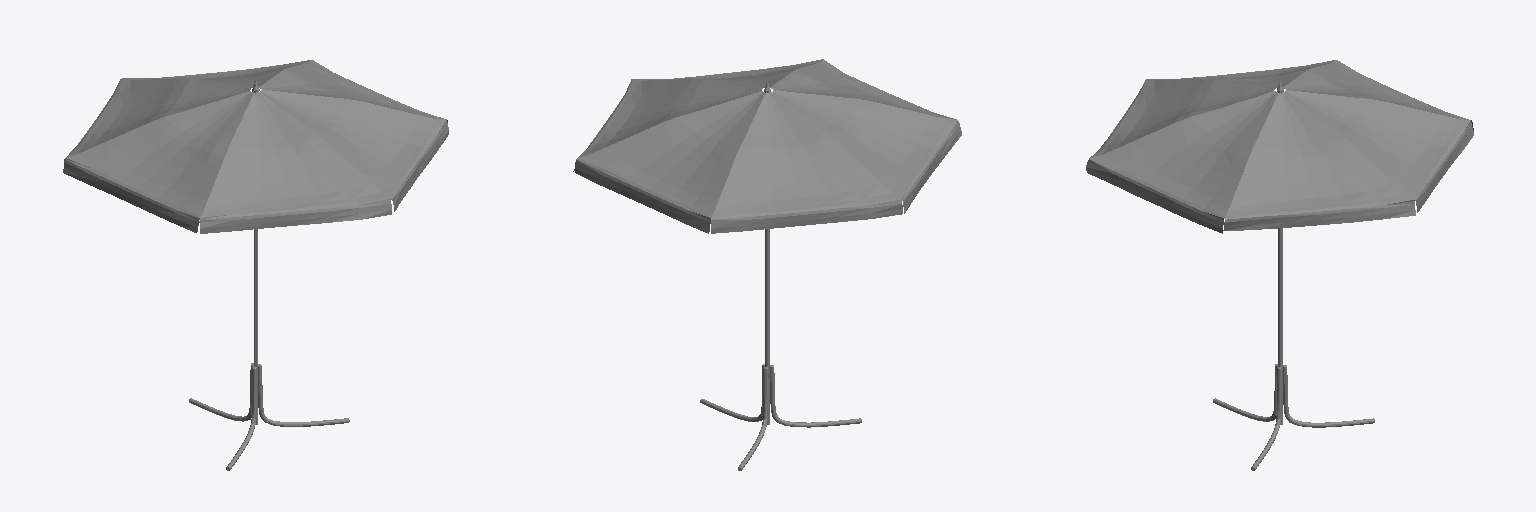
Rendered from Parasol.obj.
3 views of the same model, side by side, from view 1: azimuth 30°, elevation 25°; view 2: azimuth 150°, elevation 25°; view 3: azimuth 270°, elevation 25° (orthographic).
Parts seen in each view (by area): view 1: Parasol_cloth, Parasol_frame; view 2: Parasol_cloth, Parasol_frame; view 3: Parasol_cloth, Parasol_frame.
Boxes of the visible parts, box(x1,y1,x2,y2) form: Parasol_cloth: box(63, 60, 448, 233); Parasol_frame: box(189, 81, 391, 470); Parasol_cloth: box(573, 59, 961, 233); Parasol_frame: box(700, 80, 861, 470); Parasol_cloth: box(1086, 60, 1473, 233); Parasol_frame: box(1213, 80, 1415, 470).
Size of the model in its own units: 303 by 310 by 310.